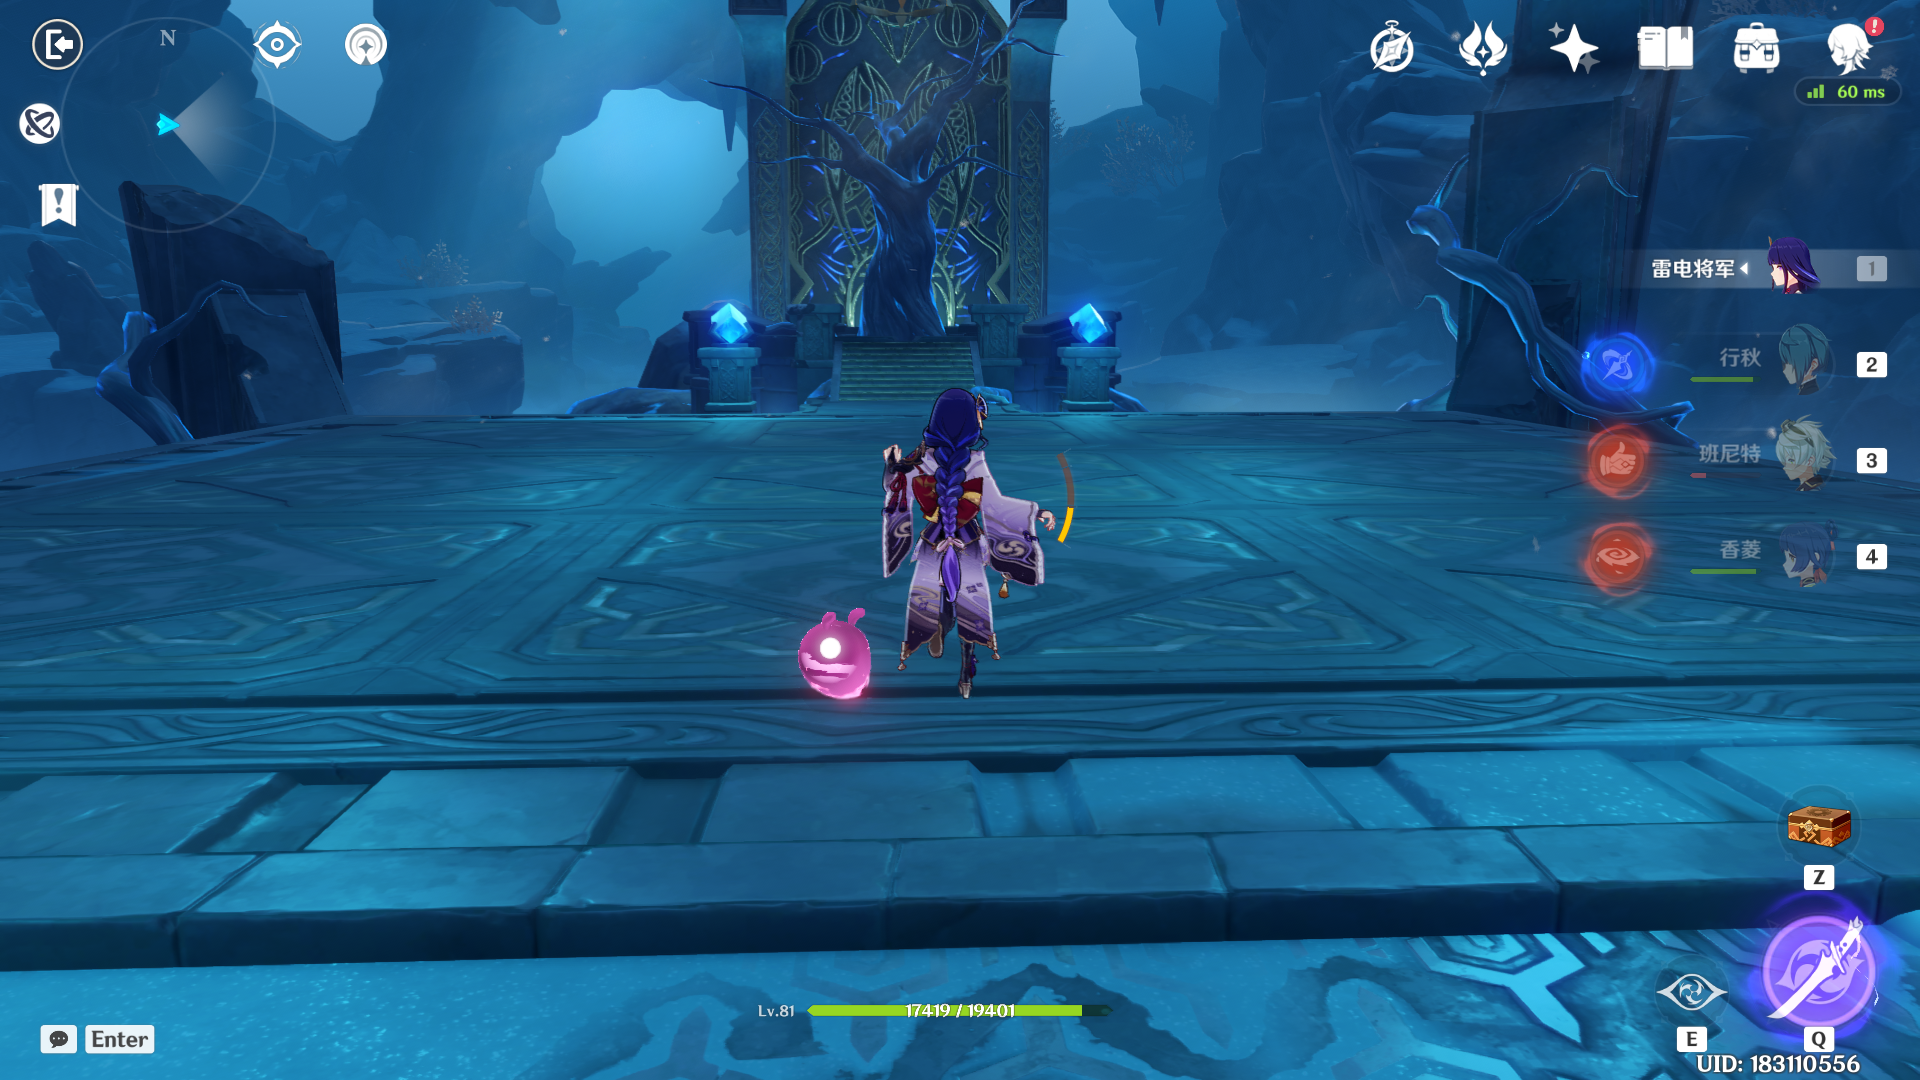character: (804, 360, 1102, 794)
